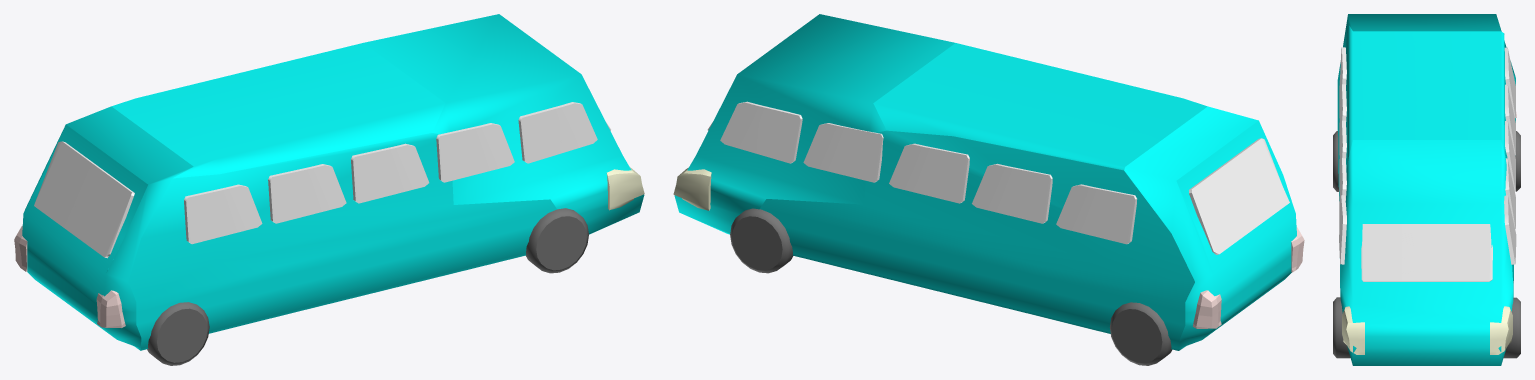
Rendered from CarroAzul.fbx.
3 renders of one model, left to right at view 1: azimuth 30°, elevation 25°; view 2: azimuth 150°, elevation 25°; view 3: azimuth 270°, elevation 25°, orthographic. The views are drawn at different scales.
Visible parts, largest first — view 1: pCube1, pCube10, pCube8, pCube13, pCube14, pCube12, pasted__pCube8, pCylinder1, pCylinder2, pCube11, pCube9; view 2: pCube1, pCube10, pasted__pasted__pCube12, pasted__pCube17, pasted__pCube15, pasted__pCube16, pasted__pCube12, pCylinder3, pCylinder4, pCube11, pCube9; view 3: pCube1, pCube6, pCube9, pCylinder1, pCylinder3, pasted__pasted__pCube12, pasted__pCube8, pasted__pCube17, pasted__pCube15, pasted__pCube16, pasted__pCube12, pCylinder2 (+5 smaller).
Part boxes in pixels (x1,y1,x2,y2): pCube1: (22, 14, 644, 350); pCube10: (34, 141, 134, 258); pCube8: (436, 123, 514, 182); pCube13: (268, 164, 346, 223); pCube14: (184, 184, 262, 244); pCube12: (351, 143, 429, 203); pasted__pCube8: (518, 102, 597, 163); pCylinder1: (526, 208, 588, 273); pCylinder2: (147, 302, 209, 365); pCube11: (14, 226, 125, 327); pCube9: (606, 167, 644, 210); pCube1: (674, 14, 1296, 350); pCube10: (1189, 138, 1289, 254); pasted__pasted__pCube12: (720, 101, 802, 163); pasted__pCube17: (1056, 184, 1137, 244); pasted__pCube15: (889, 143, 969, 203); pasted__pCube16: (972, 163, 1052, 223); pasted__pCube12: (803, 123, 883, 182); pCylinder3: (730, 208, 793, 273); pCylinder4: (1109, 302, 1172, 365); pCube11: (1193, 227, 1304, 328); pCube9: (673, 167, 711, 210); pCube1: (1337, 14, 1515, 365); pCube6: (1361, 224, 1492, 281); pCube9: (1342, 306, 1512, 354); pCylinder1: (1333, 297, 1350, 358); pCylinder3: (1503, 297, 1520, 358); pasted__pasted__pCube12: (1504, 195, 1516, 264); pasted__pCube8: (1339, 195, 1346, 264); pasted__pCube17: (1504, 47, 1515, 118); pasted__pCube15: (1505, 120, 1515, 191); pasted__pCube16: (1505, 84, 1515, 155); pasted__pCube12: (1505, 158, 1515, 228); pCylinder2: (1333, 131, 1338, 191).
Size of the model in its own units: 33.34 by 11.06 by 11.09.
